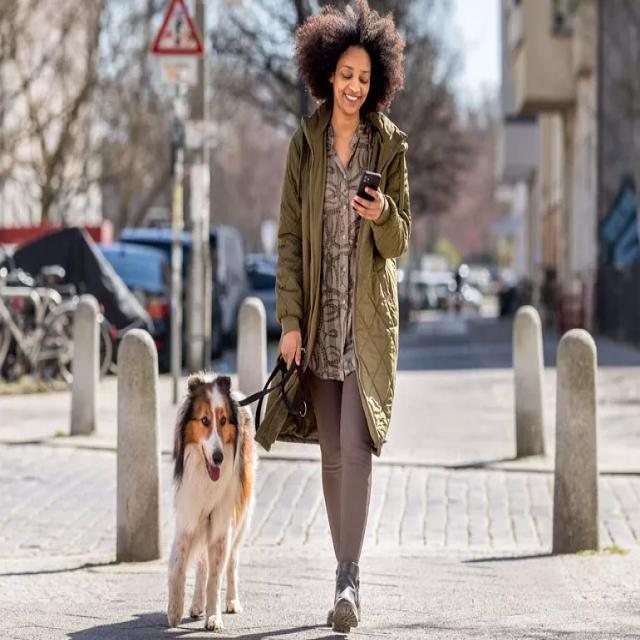Person: (271, 0, 414, 640)
